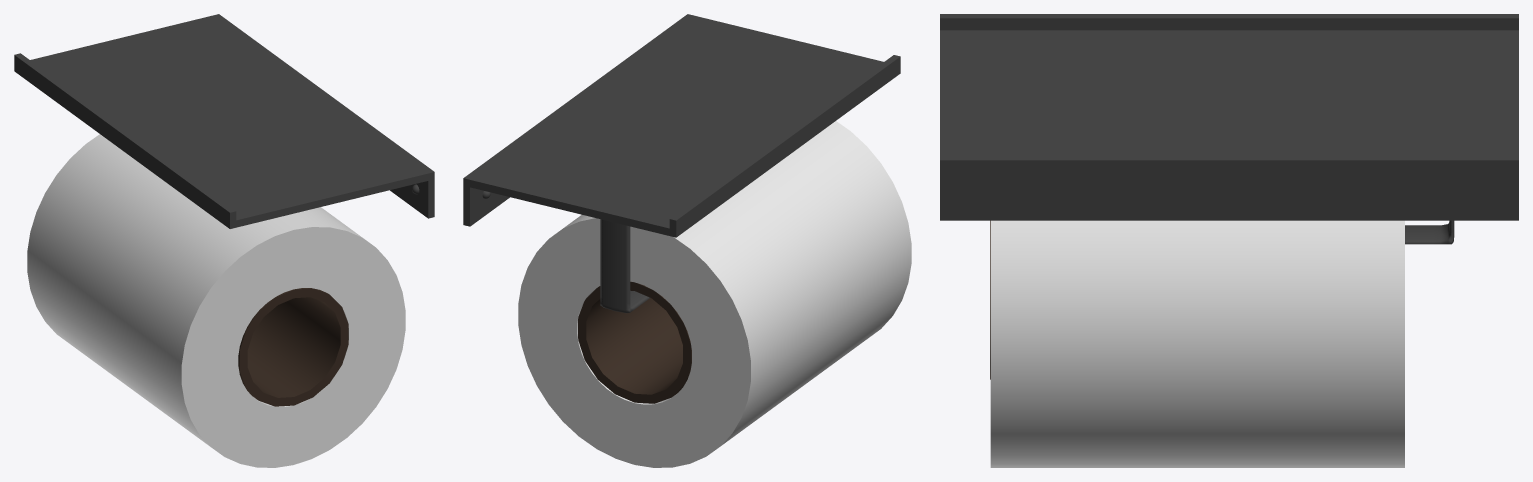
Rendered from ColgadorPapel.fbx.
3 views of the same model, side by side, from view 1: azimuth 30°, elevation 25°; view 2: azimuth 150°, elevation 25°; view 3: azimuth 270°, elevation 25° (orthographic). The views are drawn at different scales.
Parts seen in each view (by area): view 1: Tube001, Colgadorrollo, Tube002; view 2: Tube001, Colgadorrollo, Tube002; view 3: Colgadorrollo, Tube001.
Boxes of the visible parts, x1,y1,x2,y2 form: Tube001: (27,134,405,467); Colgadorrollo: (14,14,434,228); Tube002: (238,288,348,406); Tube001: (518,121,911,467); Colgadorrollo: (463,14,900,313); Tube002: (578,281,691,403); Colgadorrollo: (940,14,1518,244); Tube001: (990,220,1404,467).
Bounding box in the file's own units: 3.06 × 3.58 × 4.89.
